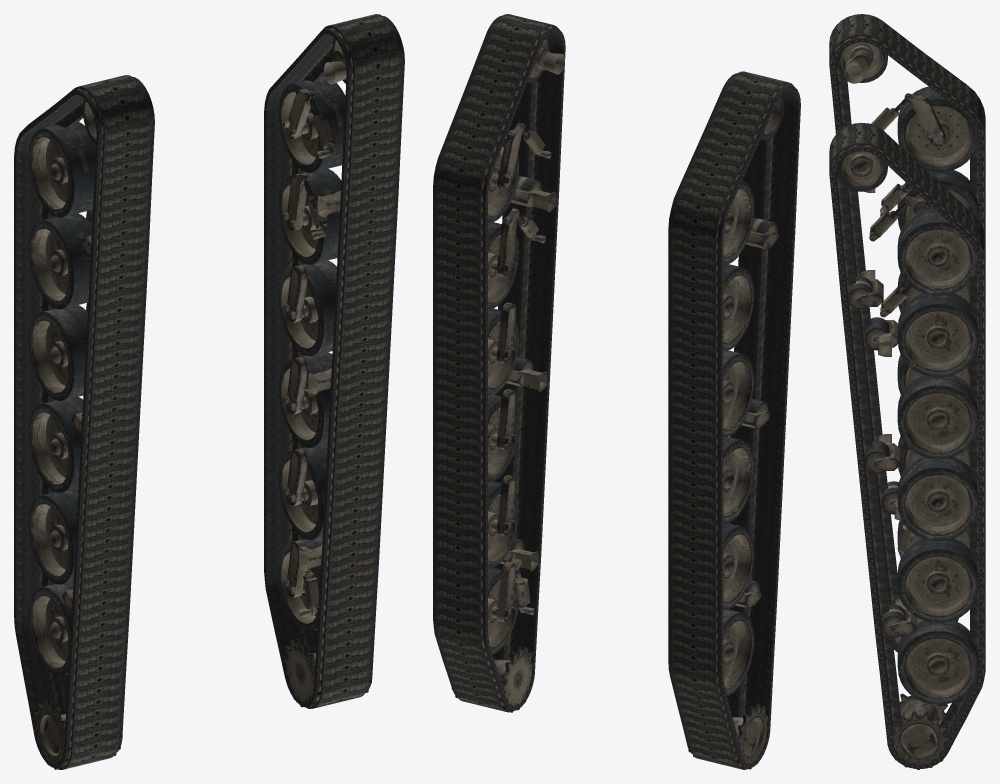
File: Chassis.glb
3 views of the same model, side by side, from view 1: azimuth 30°, elevation 25°; view 2: azimuth 150°, elevation 25°; view 3: azimuth 270°, elevation 25° (orthographic). The views are drawn at different scales.
Parts seen in each view (by area): view 1: set_0_group_0, set_1_group_0, set_2_group_0, set_3_group_0; view 2: set_0_group_0, set_1_group_0, set_3_group_0, set_2_group_0; view 3: set_3_group_0, set_1_group_0, set_2_group_0, set_0_group_0.
Boxes of the visible parts, <box> form: set_0_group_0: <box>14,75,154,769</box>; set_1_group_0: <box>264,14,404,708</box>; set_2_group_0: <box>28,99,122,769</box>; set_3_group_0: <box>278,38,372,708</box>; set_0_group_0: <box>668,71,800,769</box>; set_1_group_0: <box>433,14,565,712</box>; set_3_group_0: <box>451,36,564,712</box>; set_2_group_0: <box>686,94,784,769</box>; set_3_group_0: <box>836,151,978,769</box>; set_1_group_0: <box>829,122,985,768</box>; set_2_group_0: <box>836,42,978,645</box>; set_0_group_0: <box>829,14,985,652</box>.
Bounding box in the file's own units: 3.14 × 6.87 × 1.56.
4 materials, 4 textured.
